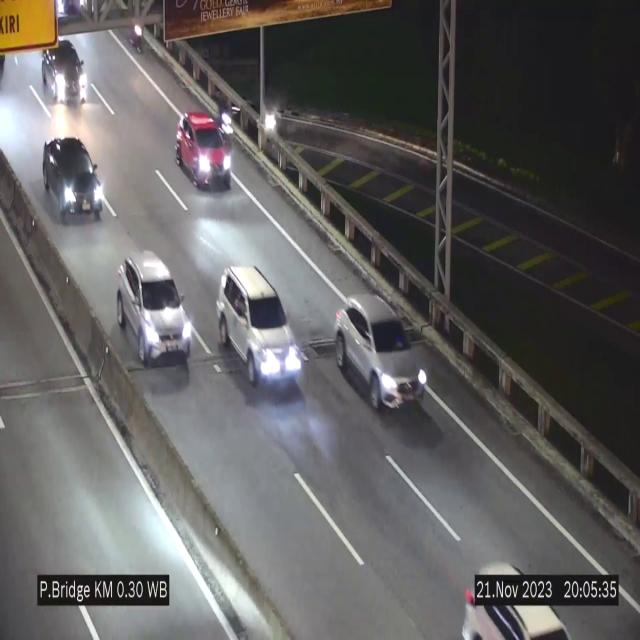Car: (216, 266, 304, 388), (334, 294, 426, 410), (117, 252, 195, 371), (454, 564, 570, 640), (42, 131, 105, 223), (175, 111, 232, 188), (38, 32, 92, 110)
Motorcycle: (124, 9, 144, 61), (216, 87, 235, 141)
